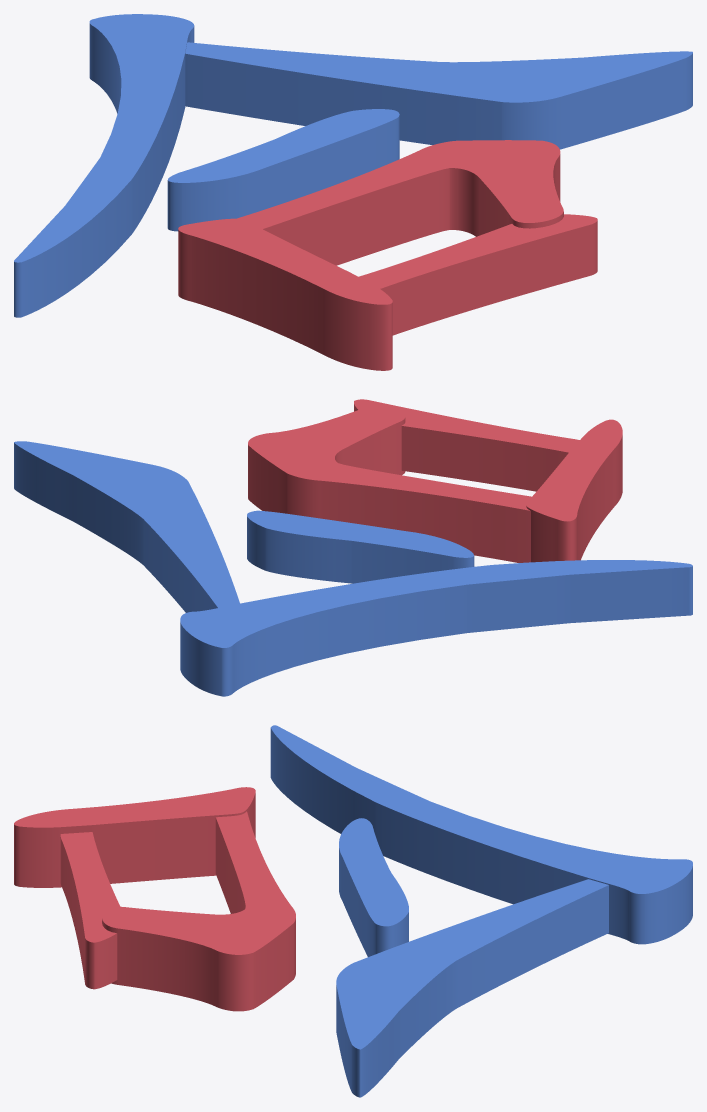
Rendered from hanzi79.fbx.
3 renders of one model, top to bottom at view 1: azimuth 30°, elevation 25°; view 2: azimuth 150°, elevation 25°; view 3: azimuth 270°, elevation 25°, orthographic. The views are drawn at different scales.
Visible parts, largest first — view 1: Curve.001, Curve, Curve.004, Curve.003, Curve.002, Curve.005; view 2: Curve, Curve.004, Curve.001, Curve.002, Curve.005, Curve.003; view 3: Curve, Curve.001, Curve.004, Curve.003, Curve.002, Curve.005.
Part boxes in pixels (x1,y1,x2,y2): Curve.001: (185,42,692,149); Curve: (14,14,194,317); Curve.004: (237,140,563,265); Curve.003: (178,218,392,370); Curve.002: (167,109,399,231); Curve.005: (358,214,597,335); Curve: (180,560,692,696); Curve.004: (248,406,531,562); Curve.001: (14,441,239,612); Curve.002: (247,510,474,583); Curve.005: (354,399,579,491); Curve.003: (526,419,622,562); Curve: (270,725,692,944); Curve.001: (336,879,608,1097); Curve.004: (102,811,295,1011); Curve.003: (14,787,255,887); Curve.002: (339,818,408,956); Curve.005: (60,832,120,989).
Bounding box in the file's own units: 26.27 × 23.33 × 2.29.
